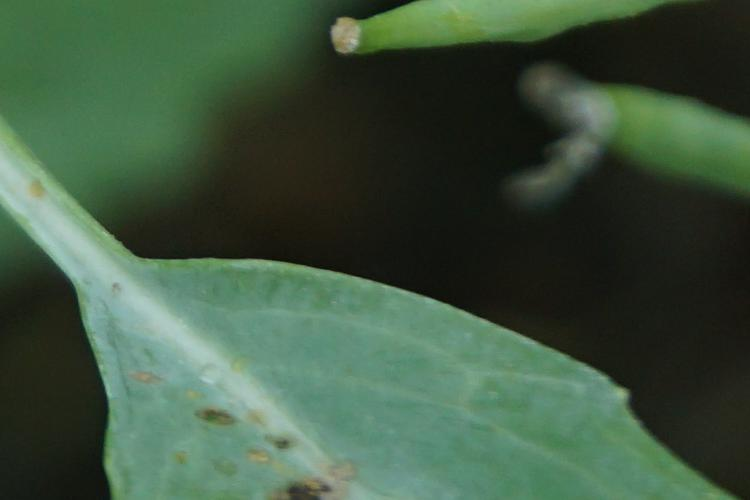pod: (328, 9, 663, 56)
